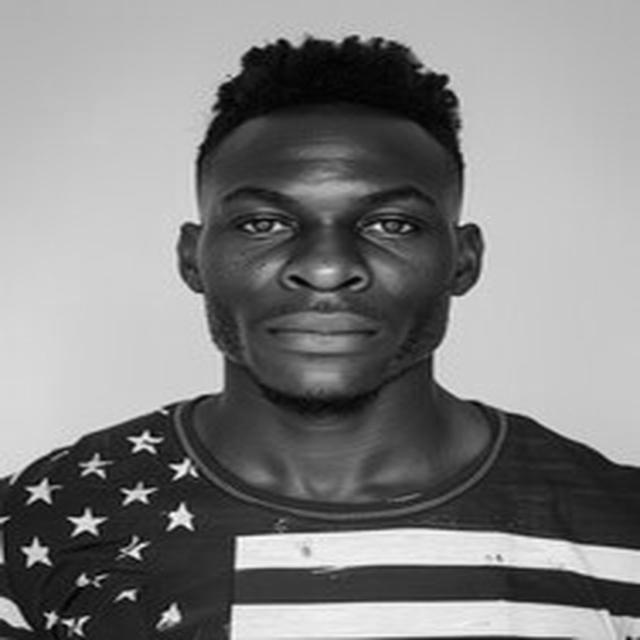Neutral: (198, 117, 460, 407)
